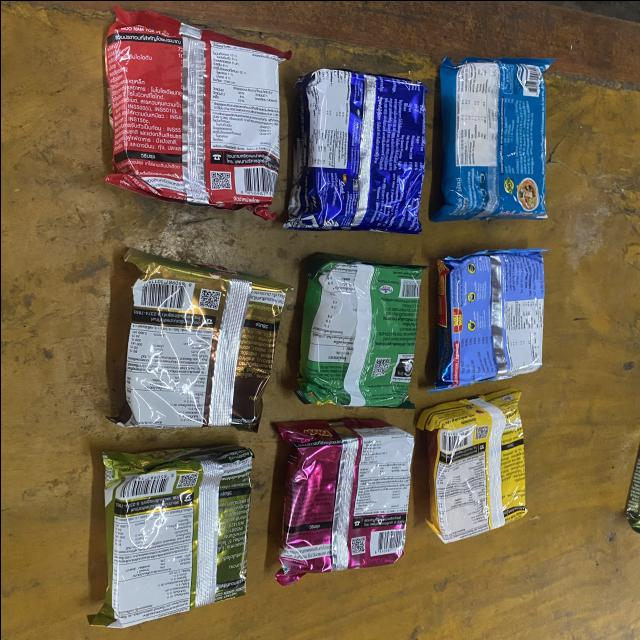plastik: (104, 6, 290, 219), (110, 248, 291, 431), (87, 445, 252, 627), (283, 68, 424, 233), (275, 419, 413, 585), (430, 57, 552, 221), (295, 254, 424, 407), (418, 388, 526, 542), (430, 248, 543, 390)
